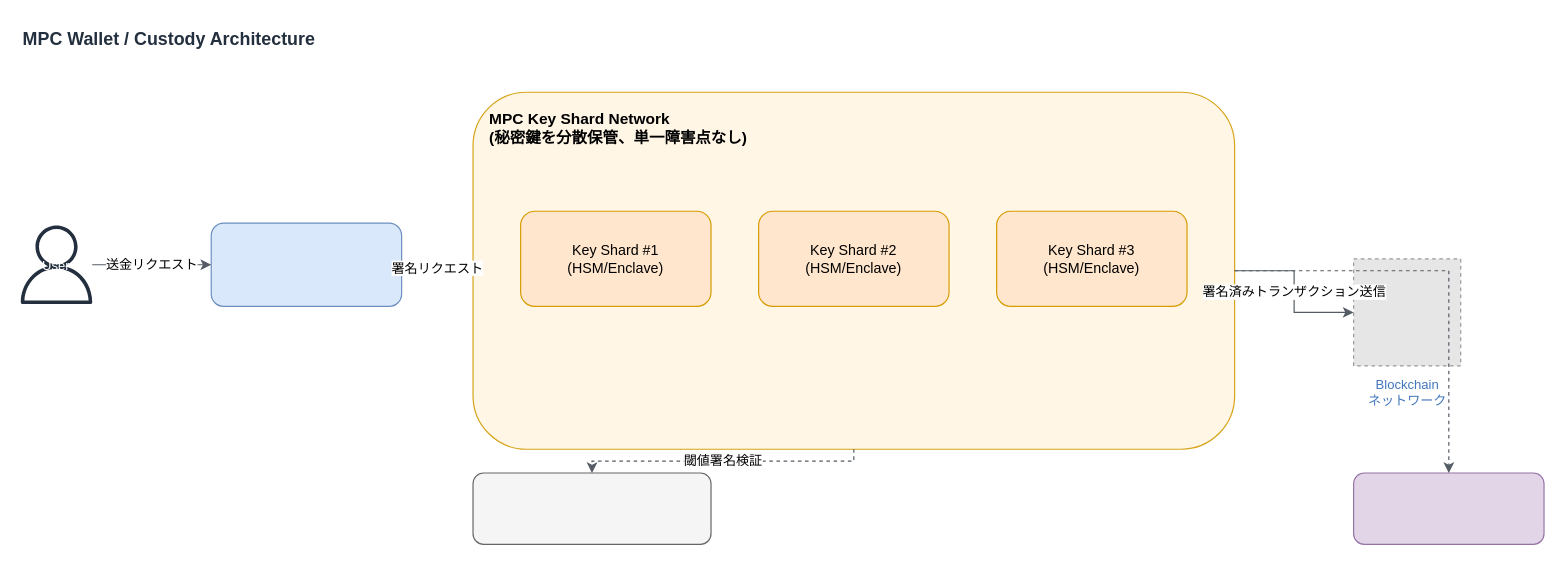
The diagram is 1565 pixels wide and 565 high, and some of its shapes have lost their labels. Grey dashed boxes stand in for pictures. The shapes that lost their labels are listed below. From the top down, each one's box as (x1, y1, x2, y2) in pixels, then its label:
(210, 222, 402, 306): Custody App (承認フロー)
(472, 472, 711, 544): 承認ポリシー (閾値署名 t-of-n)
(1352, 472, 1544, 544): 監査ログ (改ざん検知)
